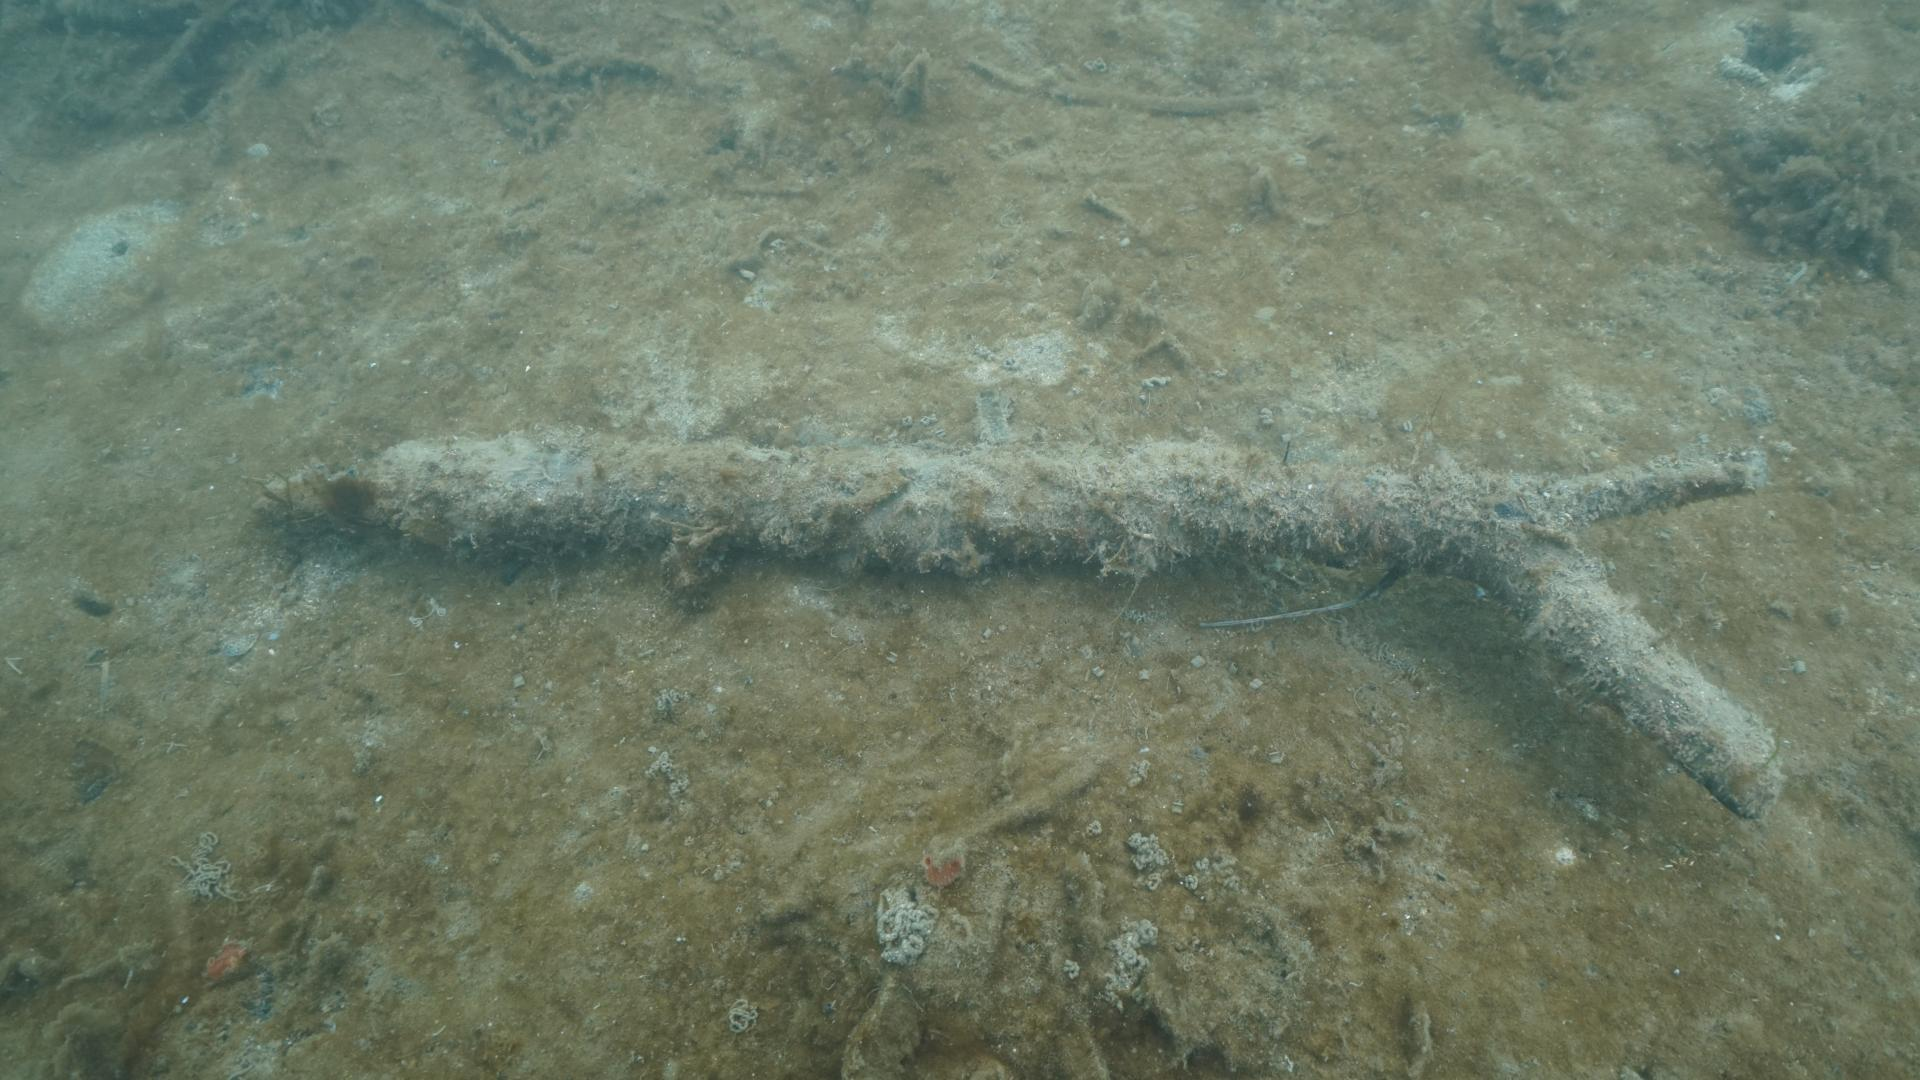wood: (247, 418, 1785, 819)
